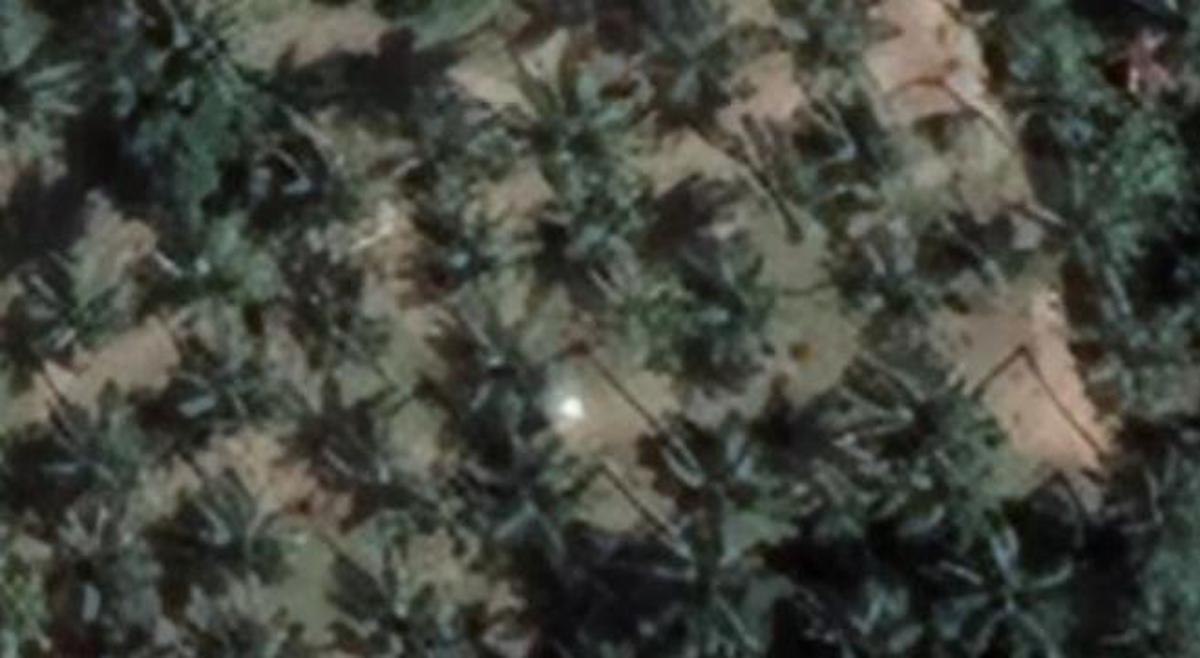coconut: (926, 502, 1101, 654), (834, 367, 1002, 520), (297, 389, 452, 546), (270, 129, 434, 268), (515, 54, 657, 210), (27, 508, 177, 652), (140, 456, 297, 583), (648, 402, 783, 544), (628, 533, 785, 654), (462, 435, 610, 562), (781, 82, 907, 224), (434, 299, 577, 424), (10, 246, 146, 371), (668, 235, 783, 382), (288, 270, 432, 385), (160, 239, 288, 367), (573, 244, 701, 372), (1024, 157, 1150, 281), (412, 201, 540, 316), (21, 394, 166, 495), (131, 3, 261, 111), (628, 0, 763, 98), (337, 564, 487, 652), (931, 202, 1046, 312), (387, 91, 513, 191), (842, 232, 951, 347), (153, 583, 325, 652), (235, 51, 354, 146), (168, 343, 279, 442), (1, 31, 89, 149), (776, 1, 904, 80), (1115, 445, 1200, 537)
